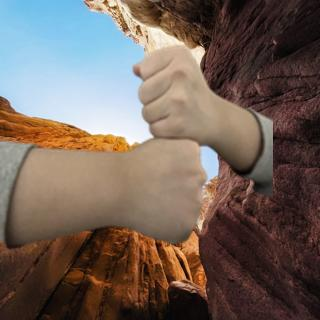CAREFUL: (22, 44, 270, 241)
